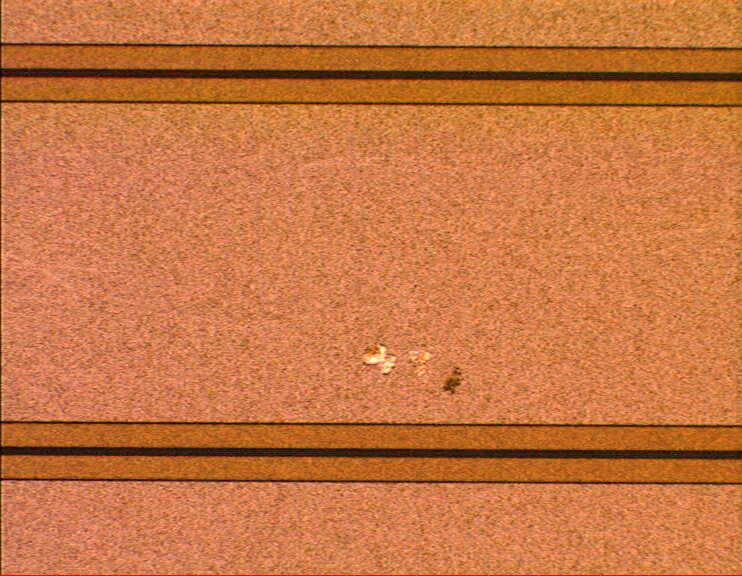SCRATCH: (340, 327, 487, 407)
